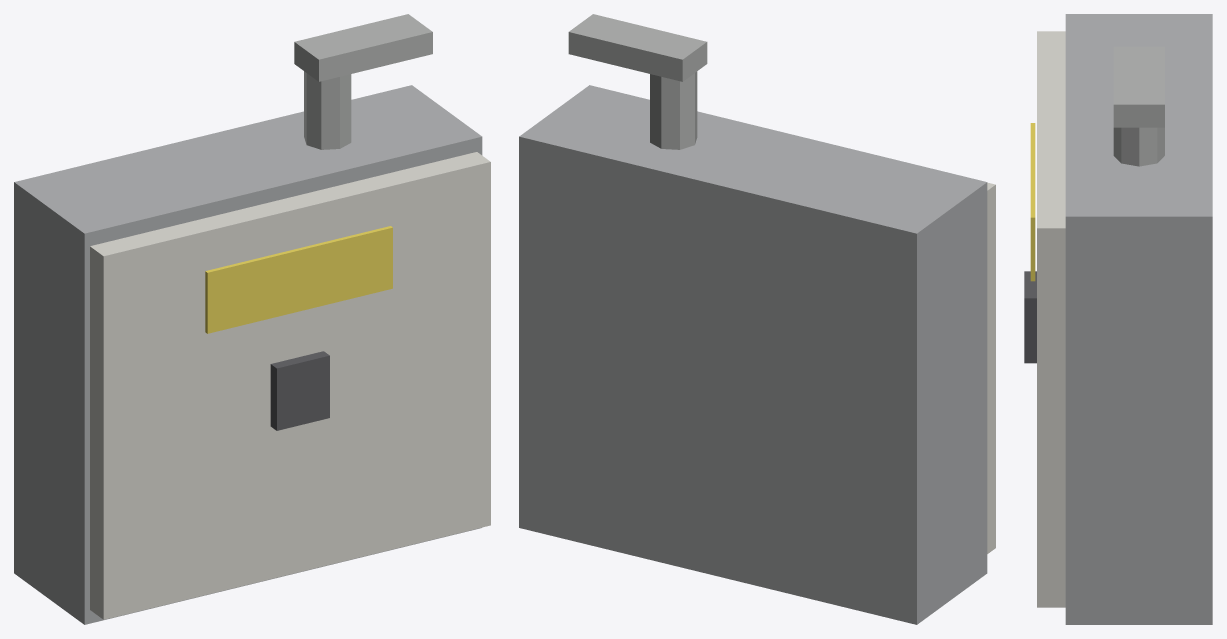
Rendered from utilbox.glb.
3 views of the same model, side by side, from view 1: azimuth 30°, elevation 25°; view 2: azimuth 150°, elevation 25°; view 3: azimuth 270°, elevation 25° (orthographic). The views are drawn at different scales.
Parts seen in each view (by area): view 1: NC_utilbox; view 2: NC_utilbox; view 3: NC_utilbox.
Boxes of the visible parts, x1=… form: NC_utilbox: x1=14, y1=14, x2=490, y2=624; NC_utilbox: x1=519, y1=14, x2=995, y2=624; NC_utilbox: x1=1024, y1=14, x2=1212, y2=624.
Size of the model in its own units: 0.3 by 0.35 by 0.118.
